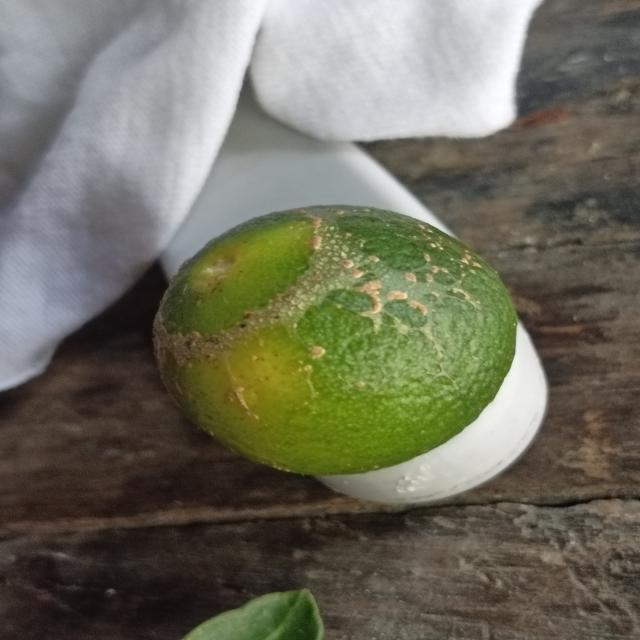thrips: (150, 204, 528, 480)
